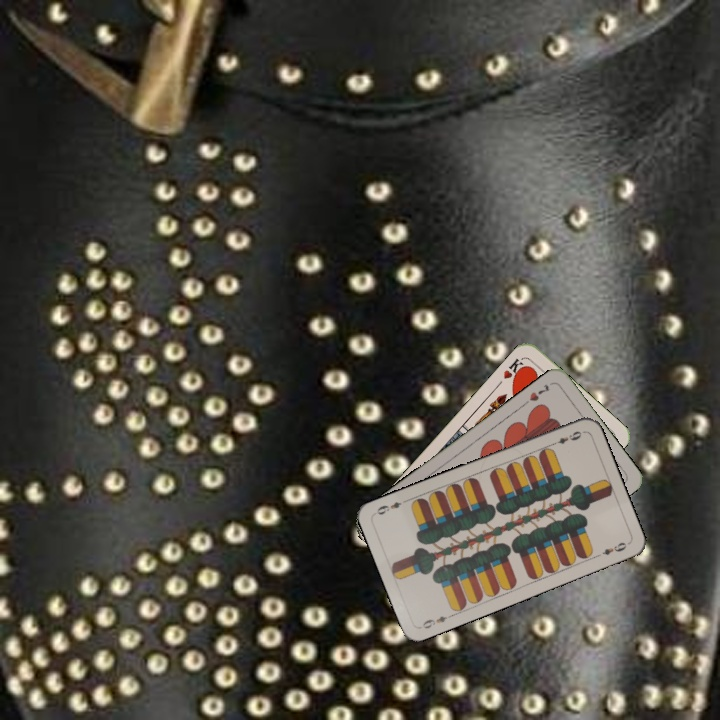E9: (416, 610, 456, 631), (547, 427, 586, 448)
H7: (520, 380, 553, 408)
HK: (499, 354, 529, 383)
